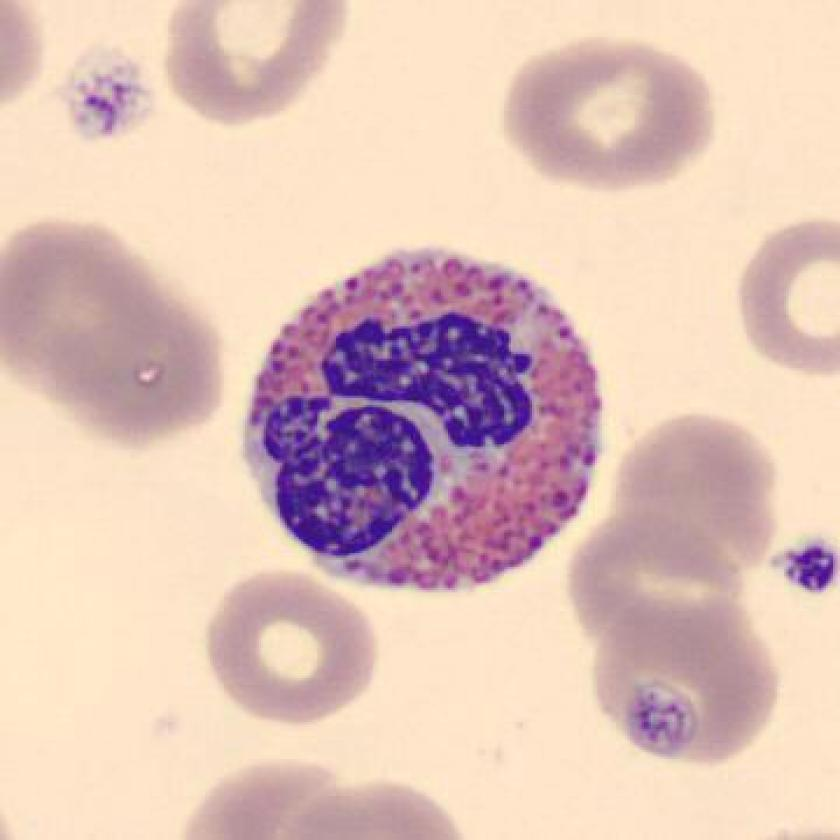eosinophil: (232, 230, 619, 603)
